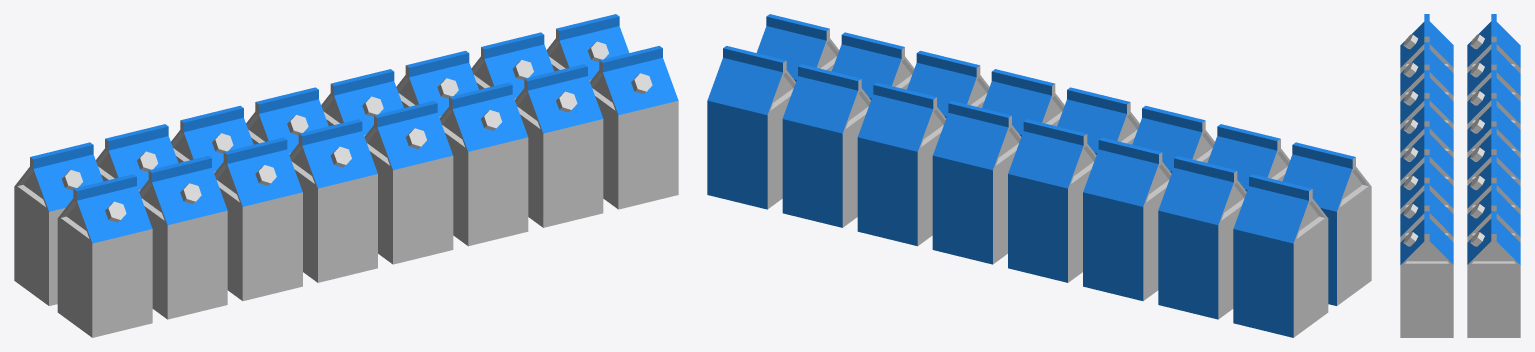
File: milk shelf.fbx
3 views of the same model, side by side, from view 1: azimuth 30°, elevation 25°; view 2: azimuth 150°, elevation 25°; view 3: azimuth 270°, elevation 25° (orthographic). The views are drawn at different scales.
Visible parts, largest first — view 1: milk_low; view 2: milk_low; view 3: milk_low.
Part boxes in pixels (left/top/right/bottom): milk_low: left=14, top=14, right=678, bottom=337; milk_low: left=707, top=14, right=1371, bottom=337; milk_low: left=1400, top=14, right=1520, bottom=337.
Bounding box in the file's own units: 195 × 43 × 45.
